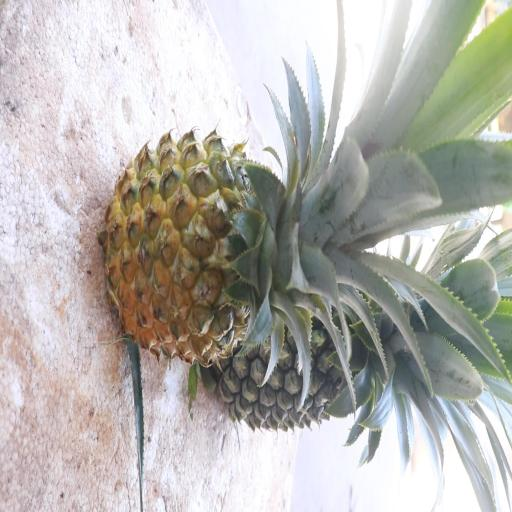Pineapple - v8 v1: (101, 130, 358, 355)
